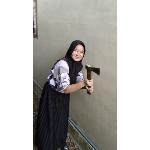Kapak: (84, 62, 102, 98)
